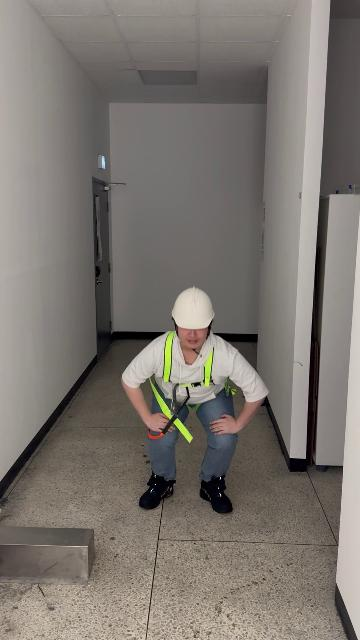helmet_worn: (170, 286, 217, 328)
shoe_worn: (139, 472, 175, 509), (199, 474, 233, 513)
vest_worn: (145, 339, 229, 446)
